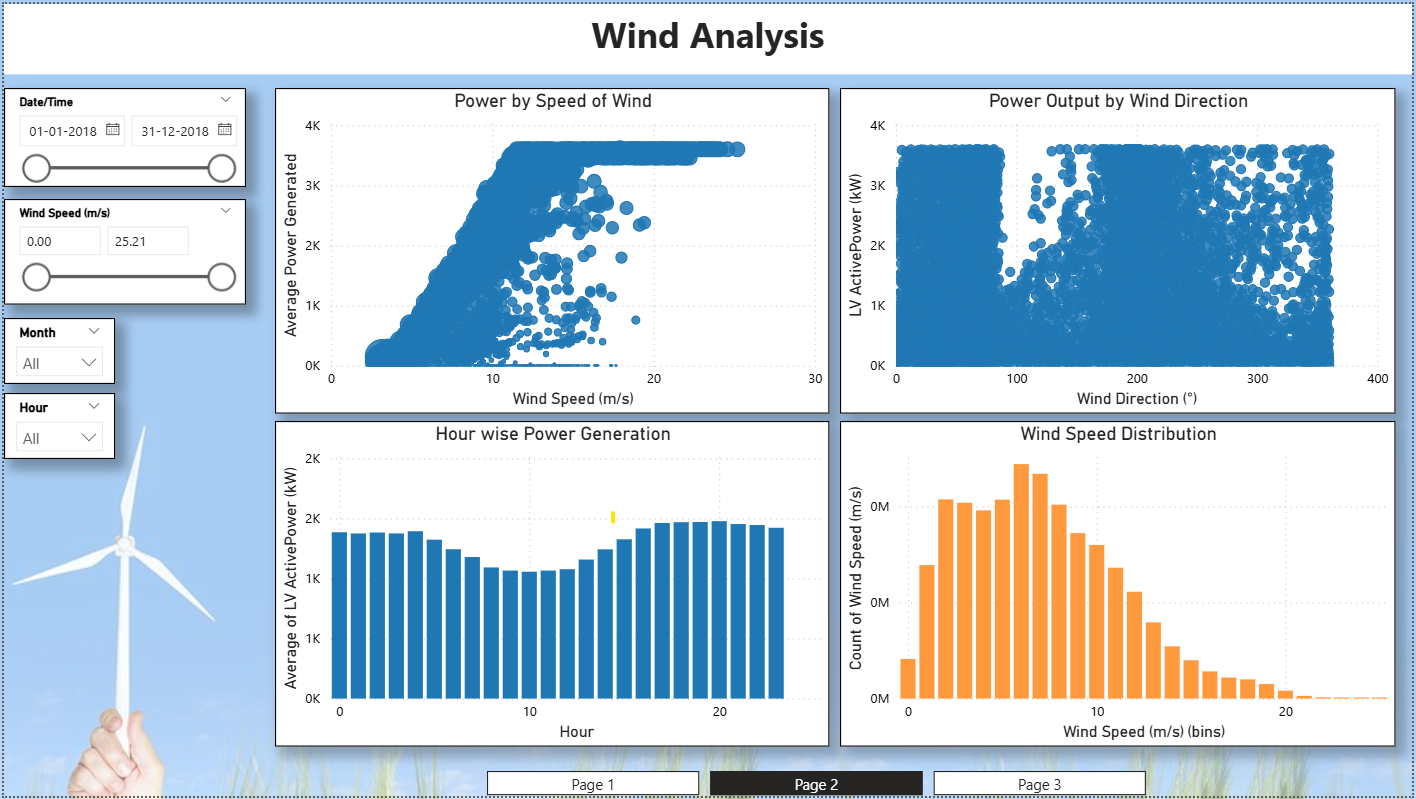

The page's visual inventory and layout, read from the dashboard file:
{"tool":"powerbi","page":{"name":"Page 2","canvas":[1280,720],"ordinal":1},"visuals":[{"type":"textbox","box":[0,0,1280,64],"z":0},{"type":"scatterChart","title":"Power by Speed of Wind","fields":{"X":["Processed_Data.Wind Speed (m/s)"],"Y":["Processed_Data.LV ActivePower (kW)"],"Size":["Avg(Processed_Data.Efficiency)"]},"box":[246.4,76.4,503.6,296.4],"z":1000},{"type":"scatterChart","title":"Power Output by Wind Direction","fields":{"X":["Processed_Data.Wind Direction (°)"],"Y":["Processed_Data.LV ActivePower (kW)"]},"box":[760,76.4,504.5,296.4],"z":2000},{"type":"clusteredColumnChart","title":"Hour wise Power Generation","fields":{"Category":["Processed_Data.Hour"],"Y":["Avg(Processed_Data.LV ActivePower (kW))"]},"box":[246.4,379.1,503.6,296.4],"z":3000},{"type":"clusteredColumnChart","title":"Wind Speed Distribution","fields":{"Category":["Processed_Data.Wind Speed (m/s) (bins)"],"Y":["CountNonNull(Processed_Data.Wind Speed (m/s))"]},"box":[760,379.1,504.5,296.4],"z":4000},{"type":"slicer","fields":{"Values":["Processed_Data.Date/Time"]},"box":[0,76.4,220,90],"z":5000},{"type":"slicer","fields":{"Values":["Processed_Data.Wind Speed (m/s)"]},"box":[0,177.3,220,96.4],"z":6000},{"type":"slicer","fields":{"Values":["DateTable.Month"]},"box":[0,285.5,100.9,60],"z":7000},{"type":"slicer","fields":{"Values":["Processed_Data.Hour"]},"box":[0,353.6,100.9,60],"z":8000},{"type":"pageNavigator","box":[439.1,697.3,600,22.7],"z":9000}]}

Visuals, with their boxes in screenshot pixels (x1, y1, x2, y2), scaled from the page's 1280x720 canvas onto the 1416x799 screenshot:
textbox: 0/0/1415/71
"Power by Speed of Wind" scatterChart: 273/85/830/414
"Power Output by Wind Direction" scatterChart: 841/85/1399/414
"Hour wise Power Generation" clusteredColumnChart: 273/421/830/750
"Wind Speed Distribution" clusteredColumnChart: 841/421/1399/750
slicer - Processed_Data.Date/Time: 0/85/243/185
slicer - Processed_Data.Wind Speed (m/s): 0/197/243/304
slicer - DateTable.Month: 0/317/112/383
slicer - Processed_Data.Hour: 0/392/112/459
pageNavigator: 486/774/1150/798
